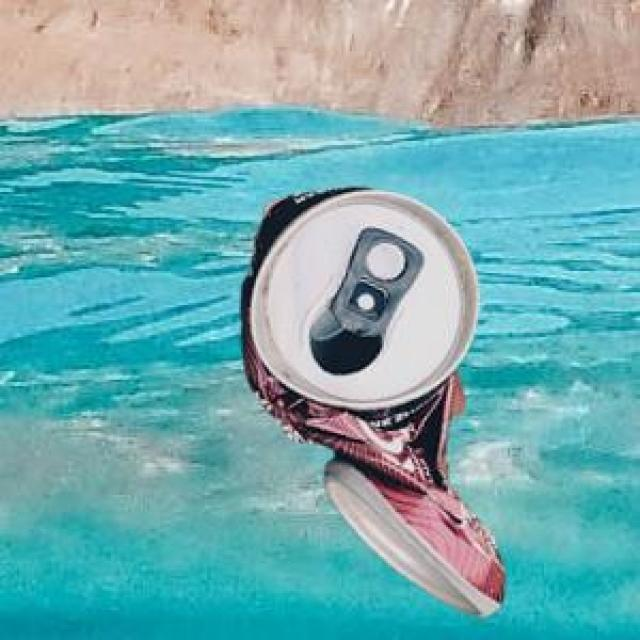Can: (238, 185, 500, 613)
